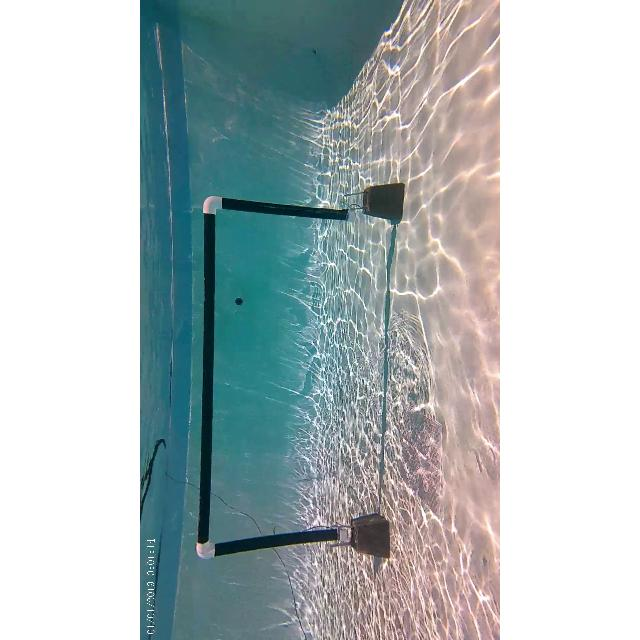prequal gate: (197, 195, 356, 560)
prequal gate leg l: (190, 524, 360, 560)
prequal gate leg r: (196, 185, 370, 229)
